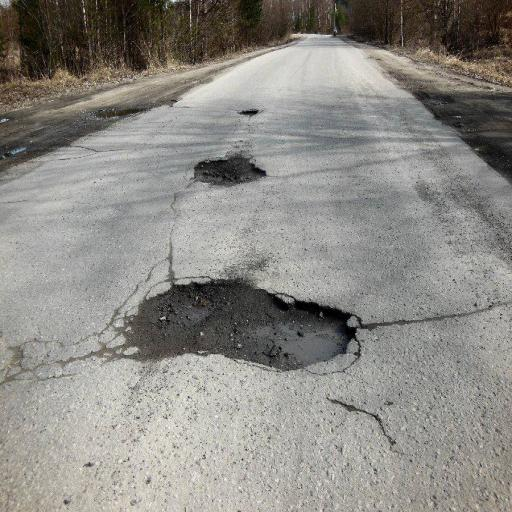construction_fence: (126, 281, 354, 370), (194, 155, 266, 186)
